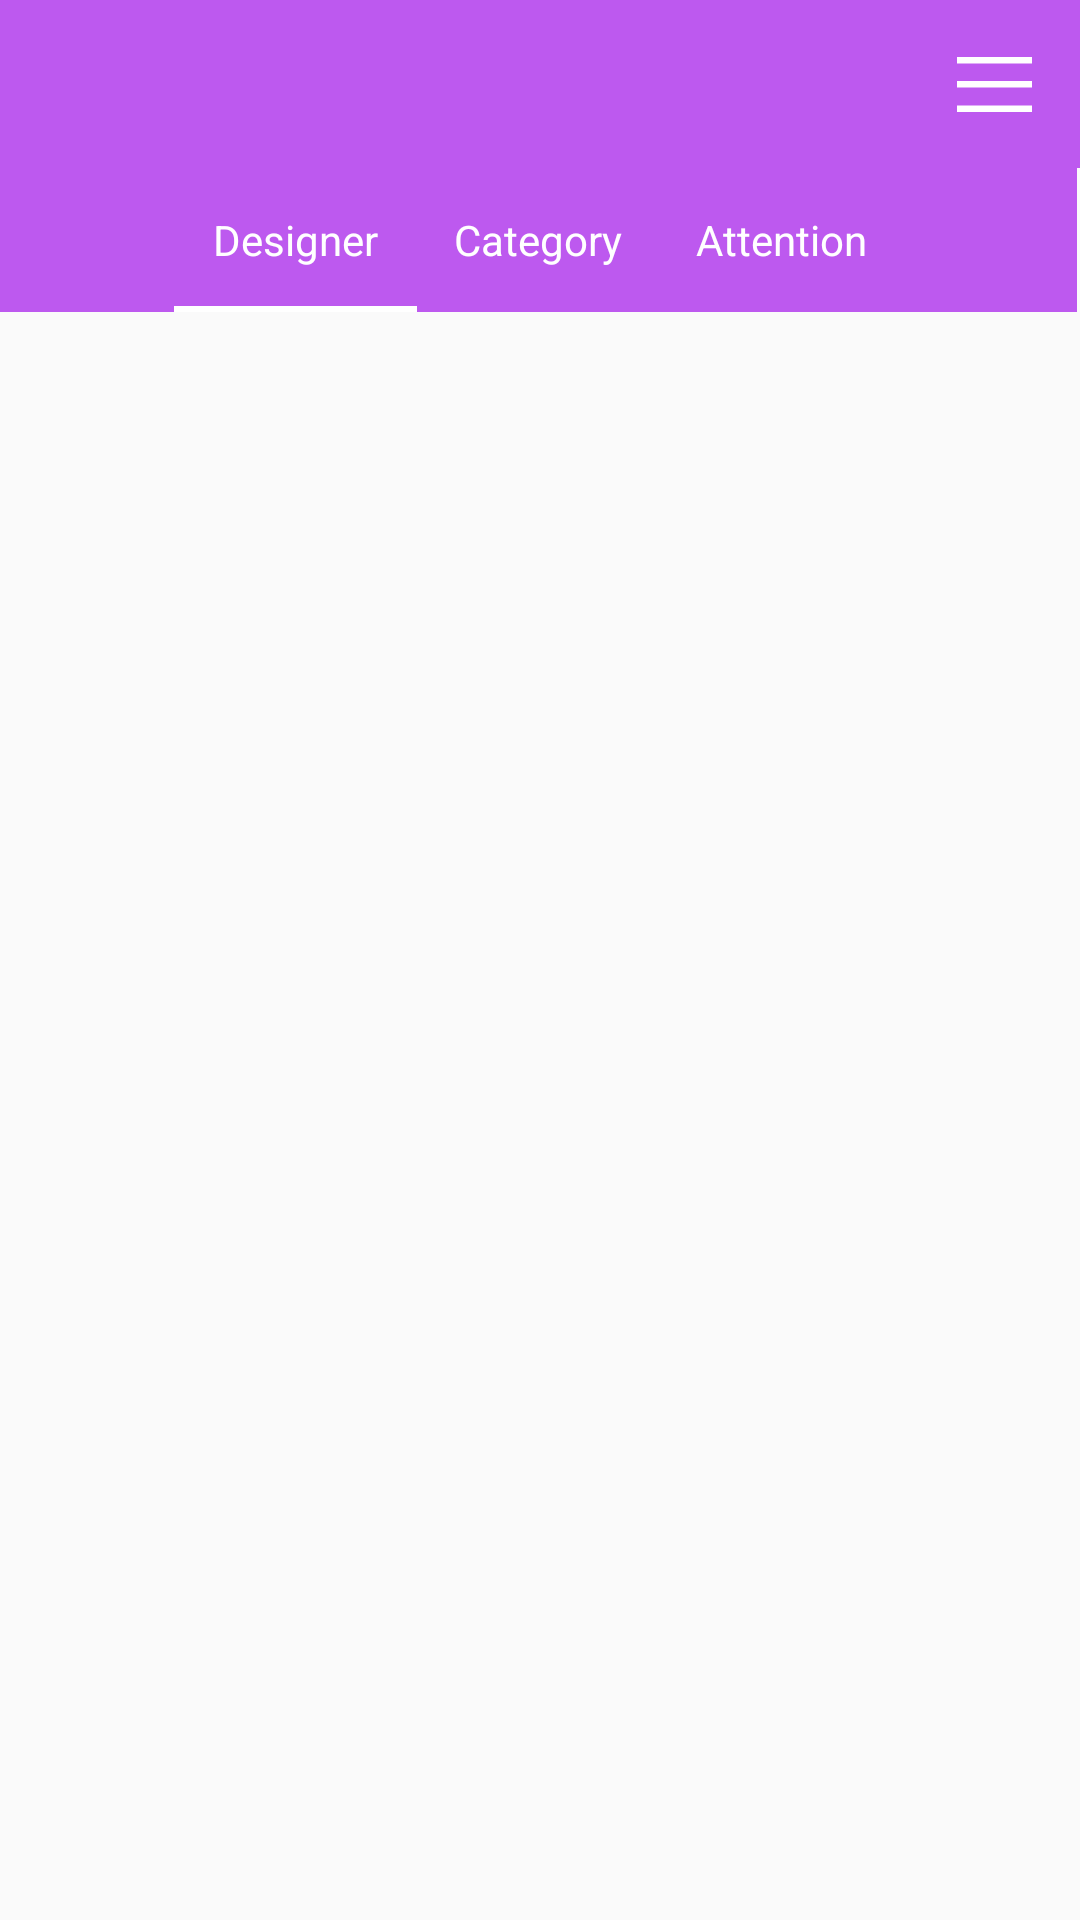

Named icons in this screenshot (1080*1920) and their bounding boxes, (x1, y1, x2, y2):
menu: (957, 57, 1032, 112)
